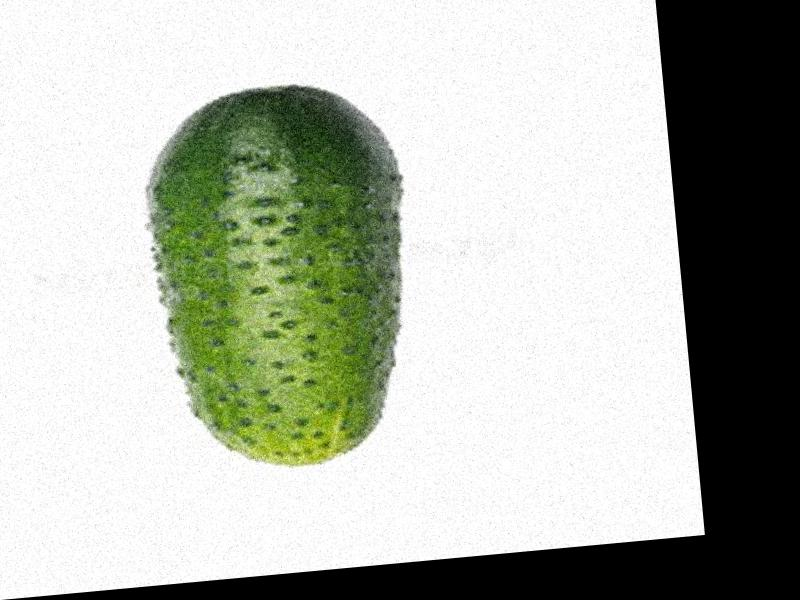Cucumber: (133, 74, 428, 480)
